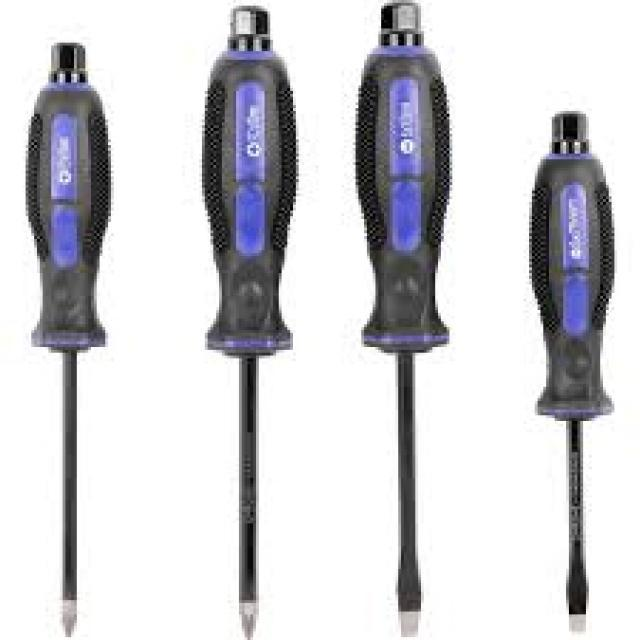screwdriver: (194, 3, 302, 640), (348, 0, 454, 640), (19, 37, 116, 640), (523, 102, 623, 640)
